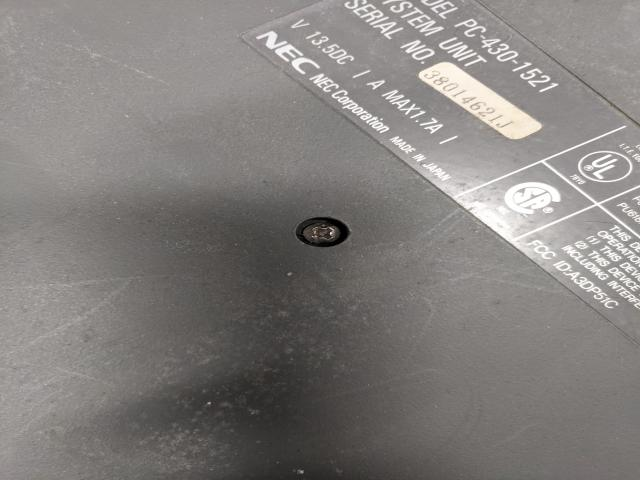CRS: (299, 220, 348, 247)
